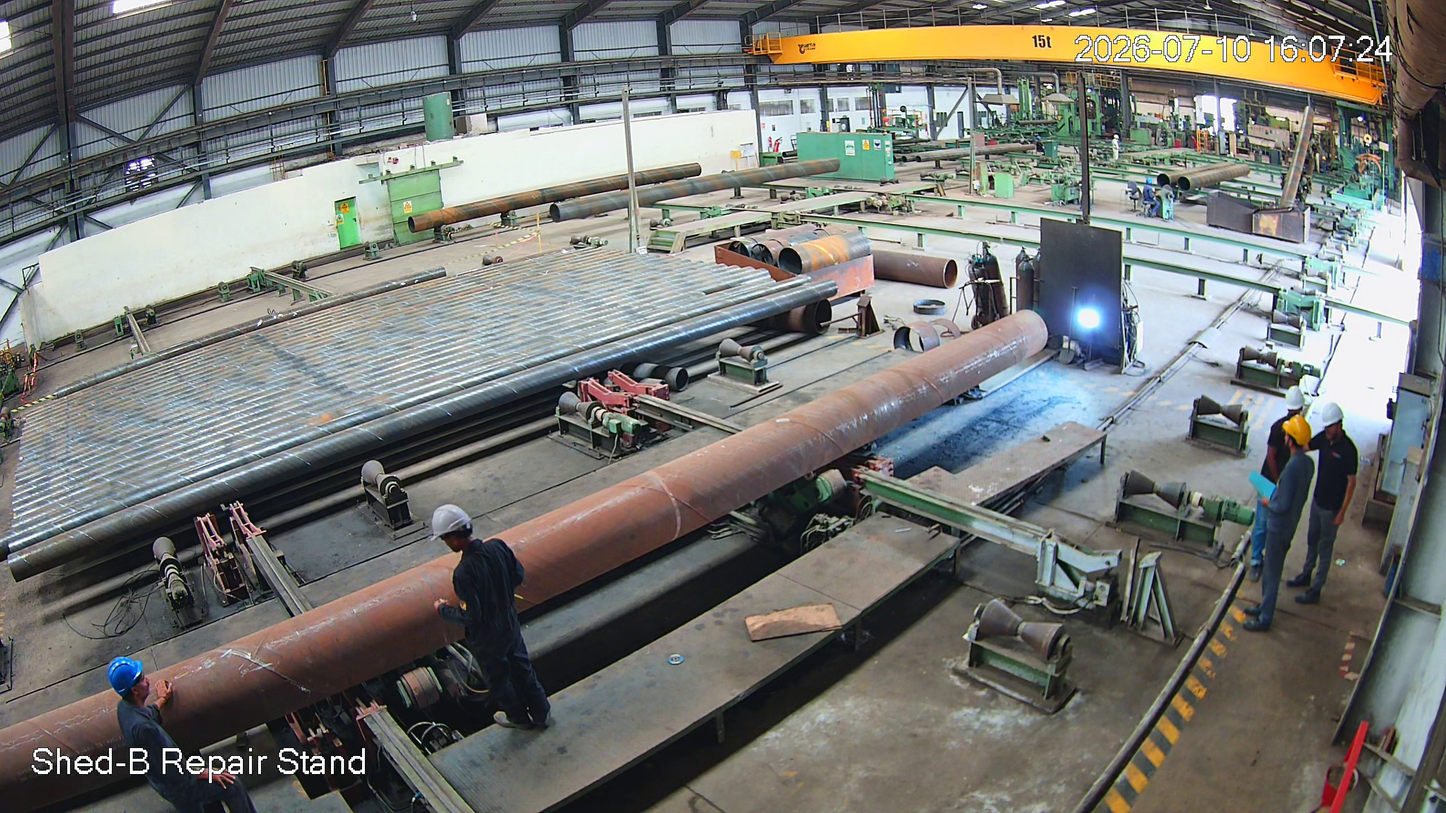Helmet: (428, 496, 510, 584), (106, 641, 172, 721), (1278, 412, 1320, 464), (1317, 399, 1350, 453)
Person: (417, 502, 572, 751), (104, 655, 256, 813), (1258, 415, 1314, 623), (1312, 400, 1357, 617)
